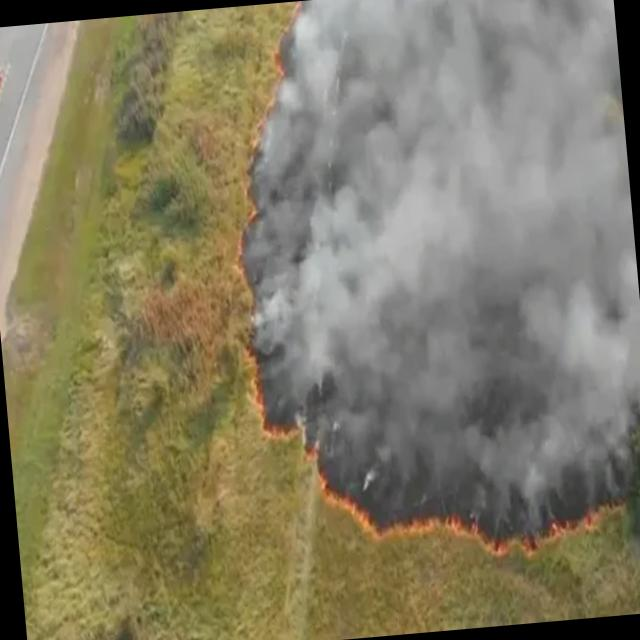Smoke: (237, 0, 640, 544)
